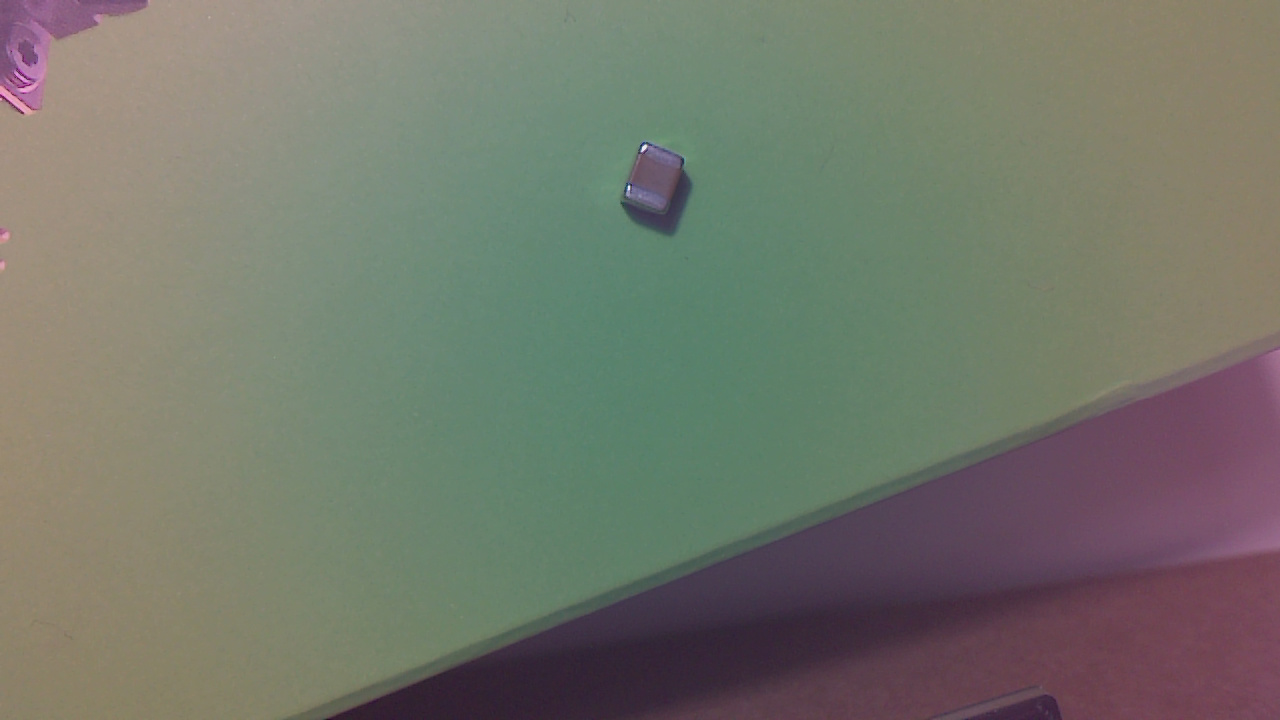Condensator: (625, 146, 693, 228)
